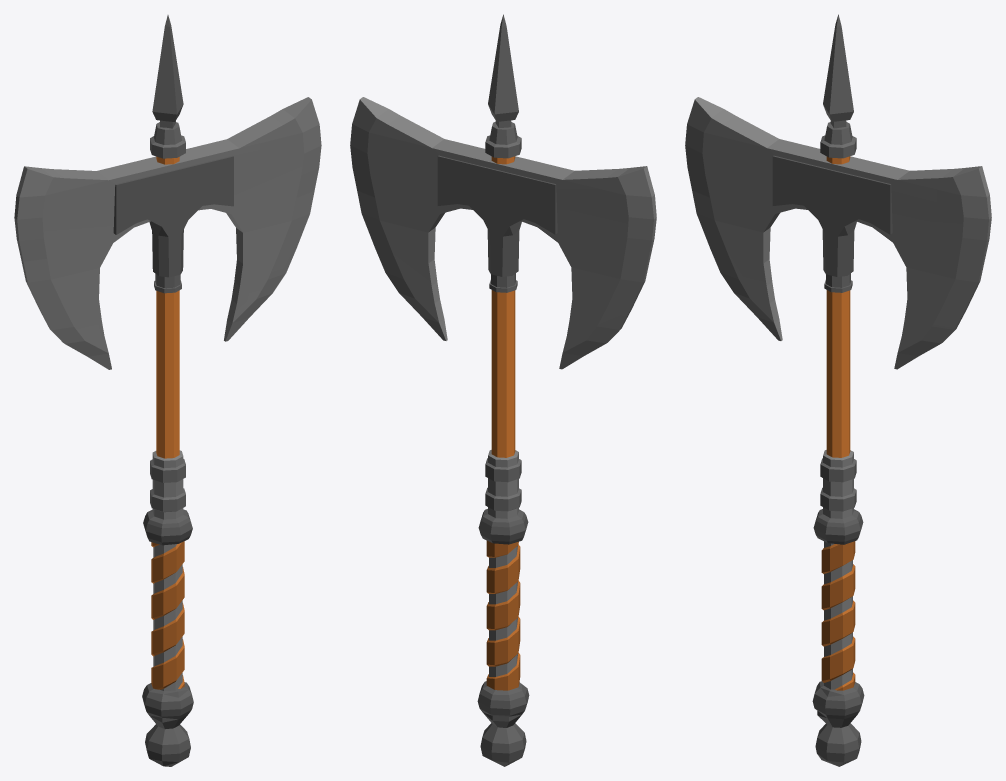
The model's file is axe_3.fbx.
The picture shows the model from 3 angles, left to right: view 1: azimuth 30°, elevation 25°; view 2: azimuth 150°, elevation 25°; view 3: azimuth 330°, elevation 25°; orthographic projection.
Visible parts, largest first — view 1: Axe; view 2: Axe; view 3: Axe.
Part boxes in pixels (x1,y1,x2,y2): Axe: (14,15,321,766); Axe: (350,14,656,766); Axe: (685,14,991,766).
Bounding box in the file's own units: 76.54 × 181 × 11.67.
